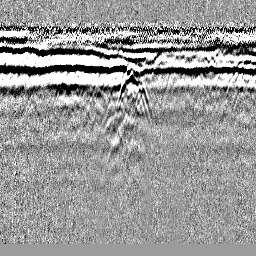cavity: (116, 61, 152, 120)
